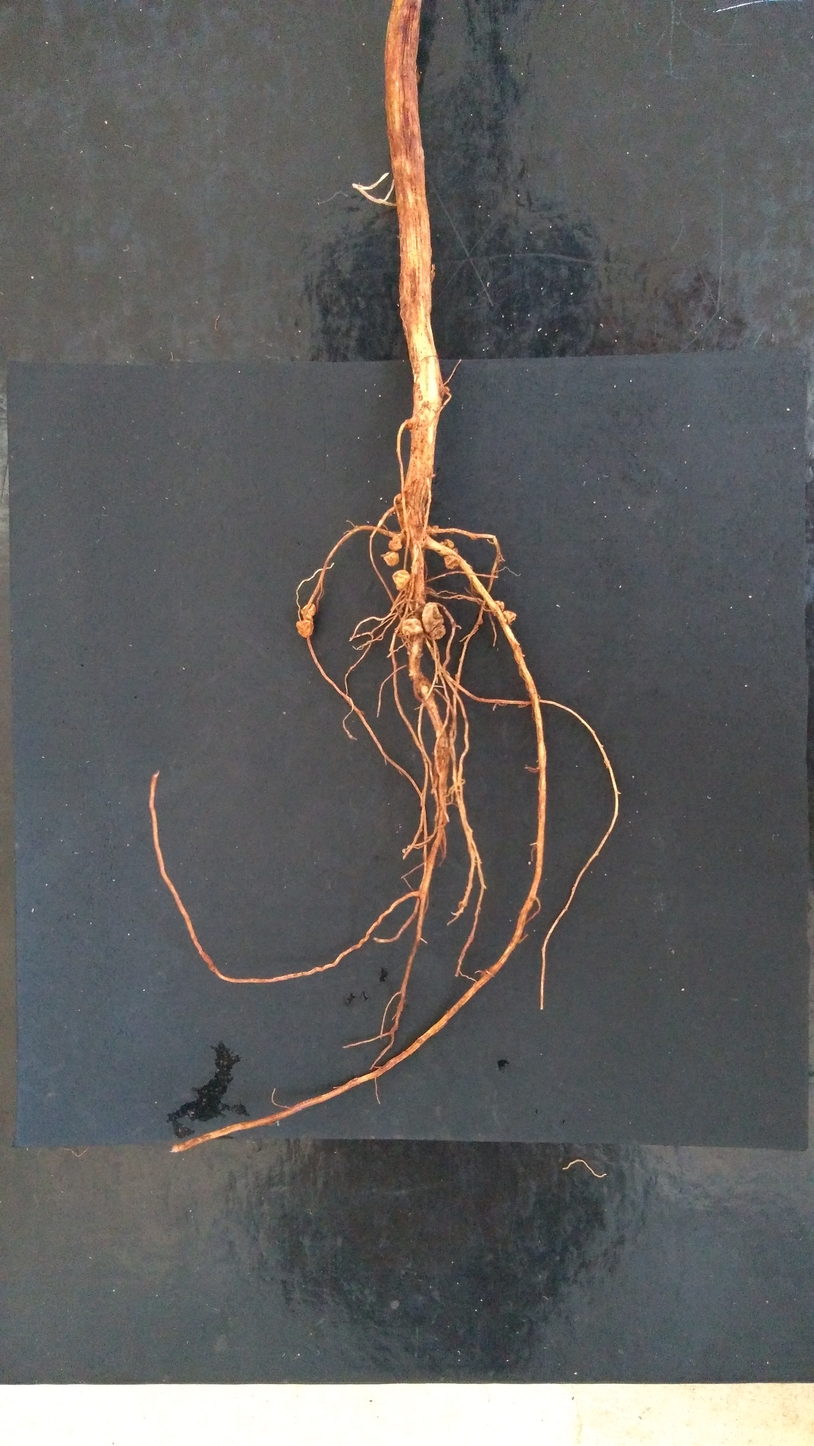nodule: (421, 602, 446, 640), (392, 570, 411, 591), (402, 618, 423, 636), (296, 619, 314, 638), (444, 548, 459, 569), (301, 603, 316, 622), (382, 551, 399, 567), (502, 610, 517, 626), (388, 534, 402, 551), (490, 600, 504, 616), (438, 539, 454, 549), (441, 385, 450, 397), (431, 525, 439, 537), (396, 493, 403, 504)
